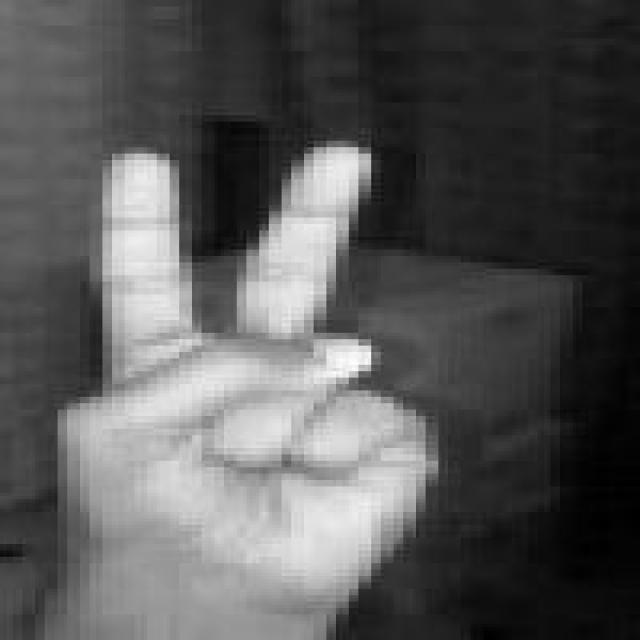V: (49, 134, 447, 621)
